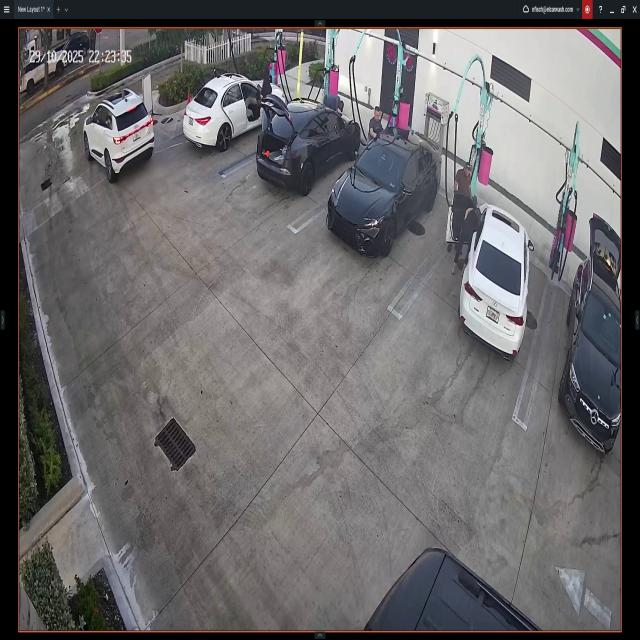Car: (329, 126, 440, 256), (452, 188, 530, 360), (566, 214, 621, 457), (260, 92, 360, 200), (183, 68, 285, 156), (79, 91, 157, 181)
